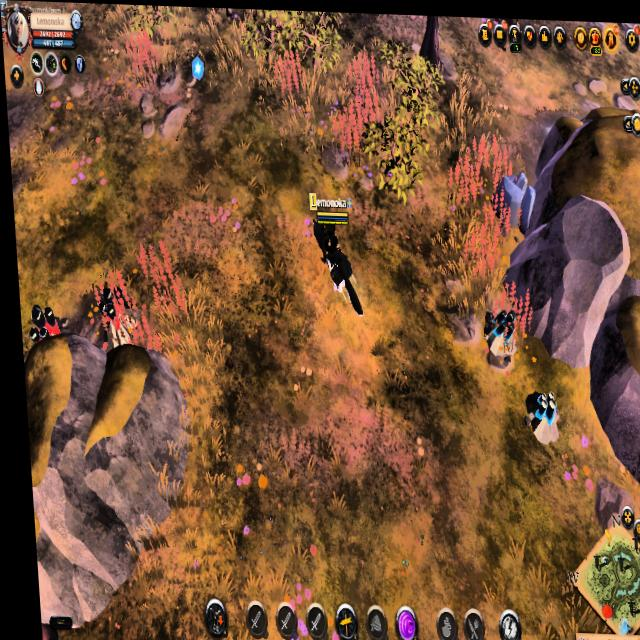ore tier 4: (474, 301, 518, 366), (518, 383, 556, 442)
ore tier 5: (91, 281, 138, 351)
rock tier 4: (487, 164, 537, 231)
